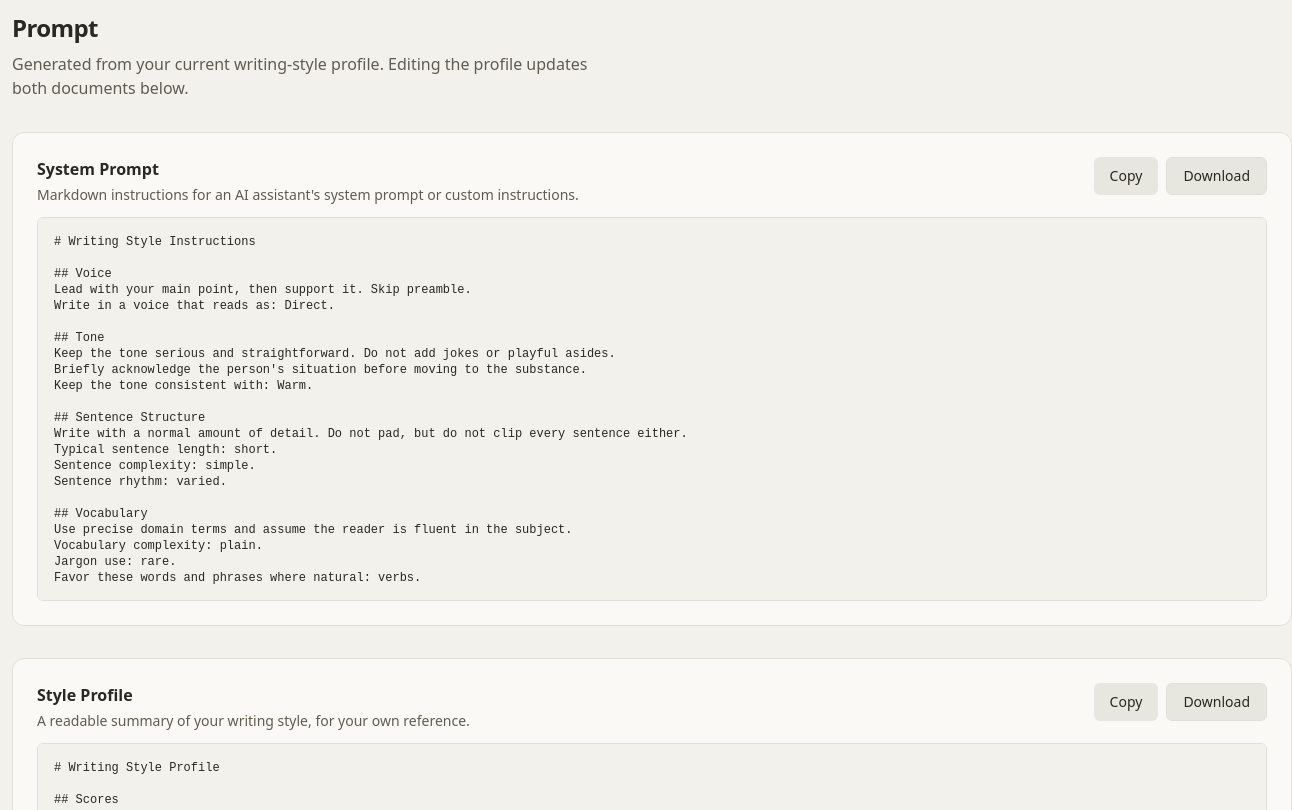
PromptPage › shows an alert instead of failing silently when the clipboard write rejects
Click the button with aria-label "Copy system prompt".
click(1126, 176)  # box [1094,157,1158,195]
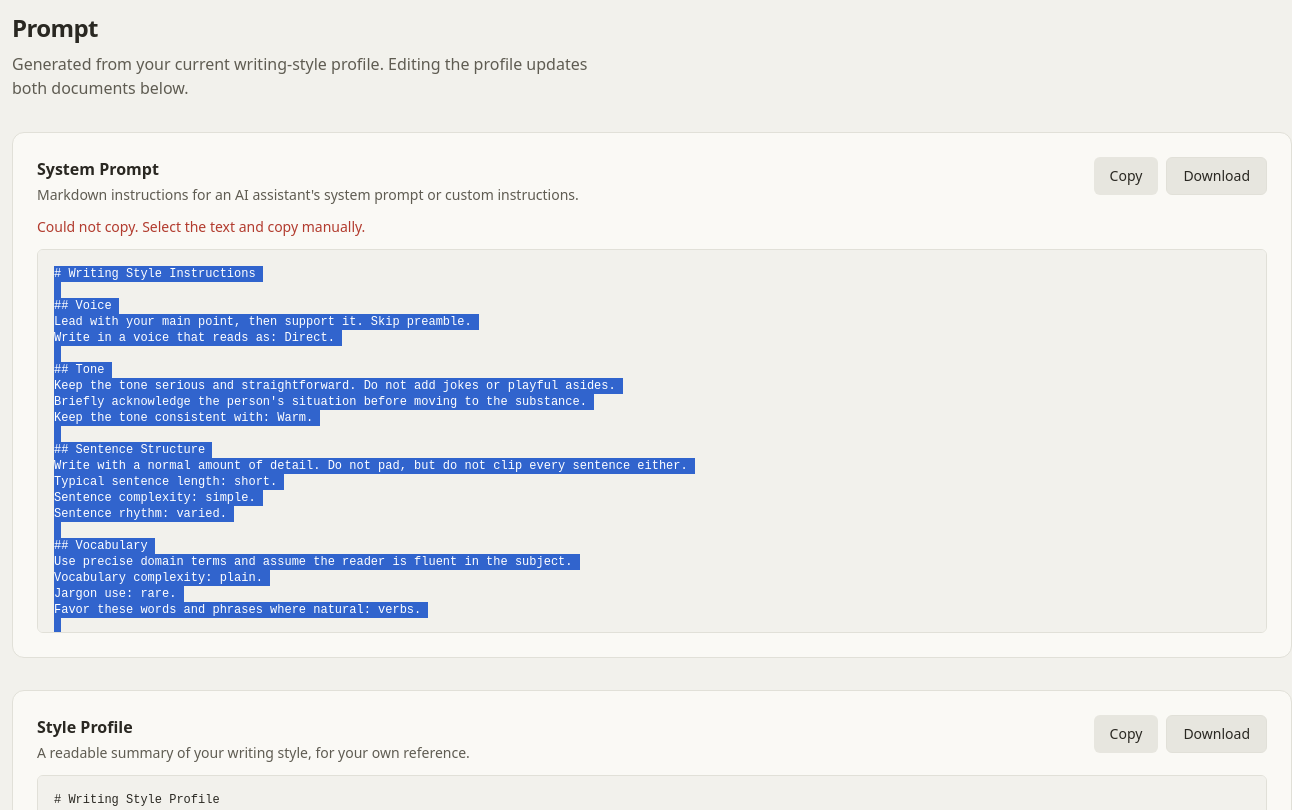
Now the message shows "Could not copy", box [37,217,365,236]
